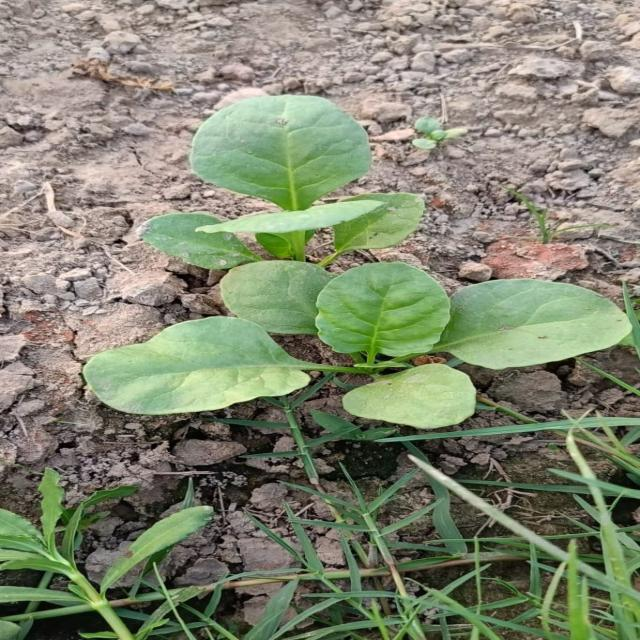plant: (85, 95, 630, 429)
